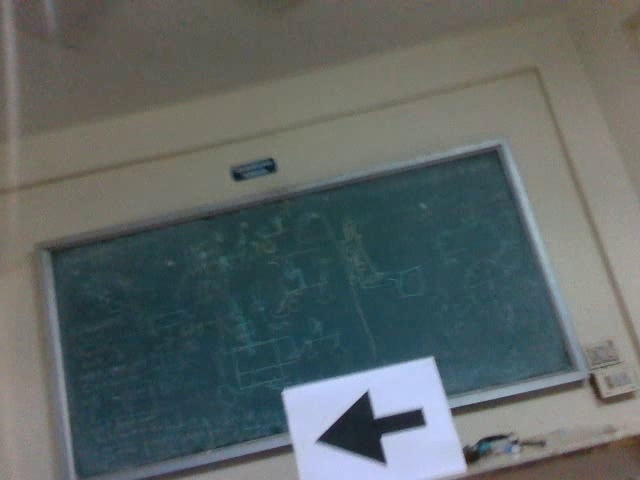Left: (306, 387, 431, 470)
